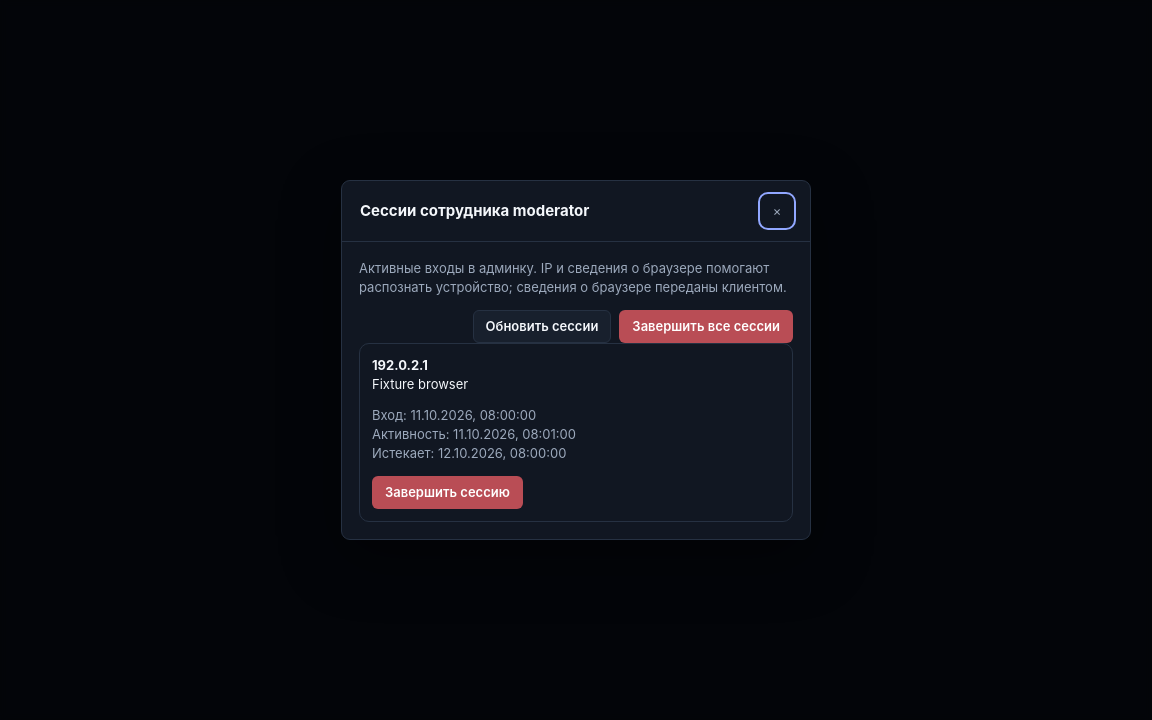
Test: requires a reason, keeps failed revocations reviewable and refreshes after success
Expected: the text "192.0.2.1" is shown, [372,357,428,373]
Click the button "Завершить сессию". click: point(447, 492)
box: [372,476,523,509]
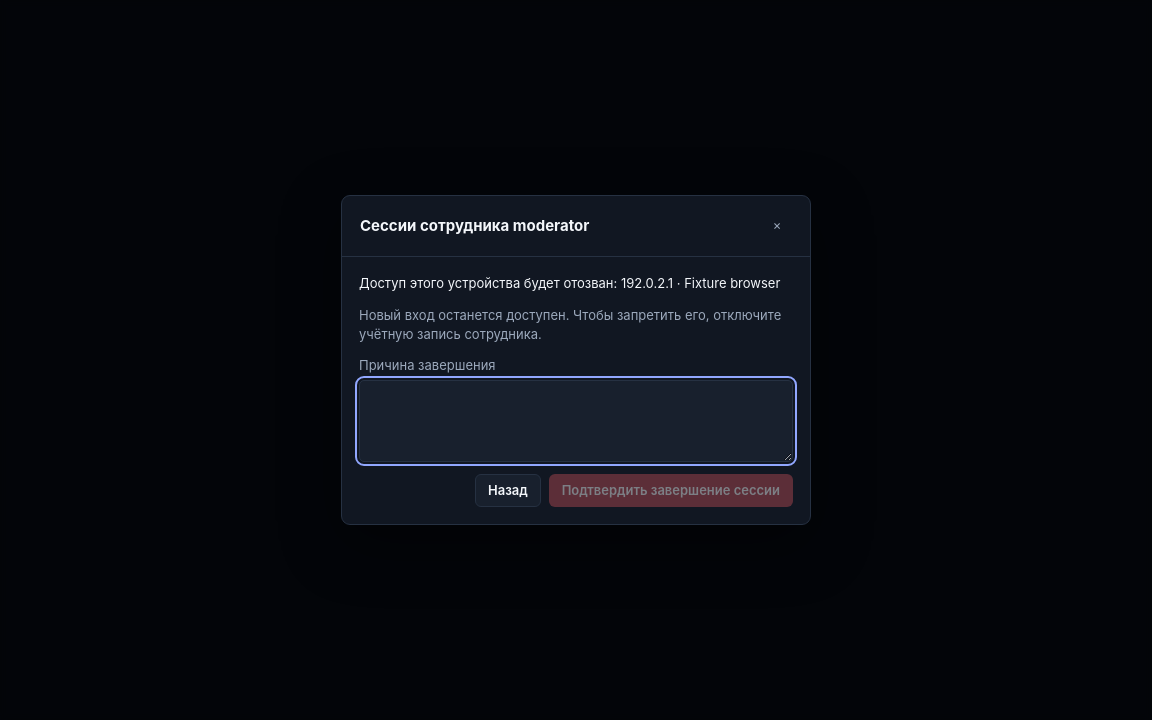
Expected: the button "Подтвердить завершение сессии" is disabled, [549,474,793,507]
Type "Устройство потеряно сотрудником" into the text box labelled "Причина завершения". click: point(576, 421)
box: [359,380,793,462]
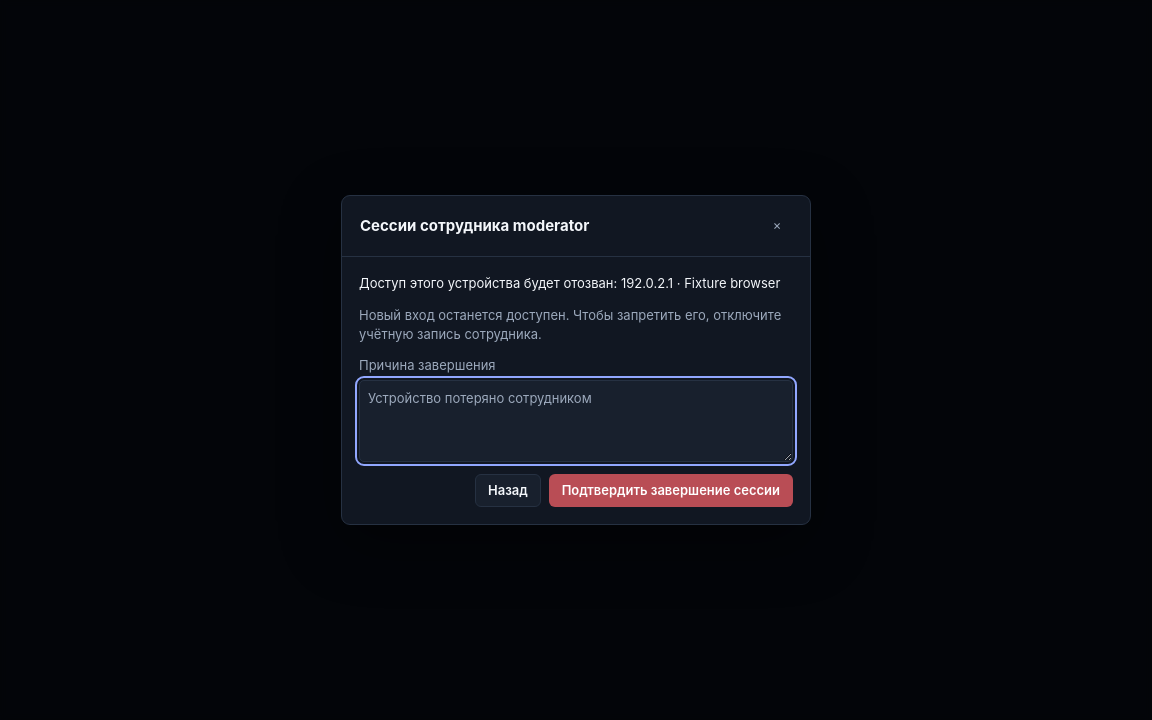
Click the button "Подтвердить завершение сессии". click: point(671, 491)
box: [549,474,793,507]
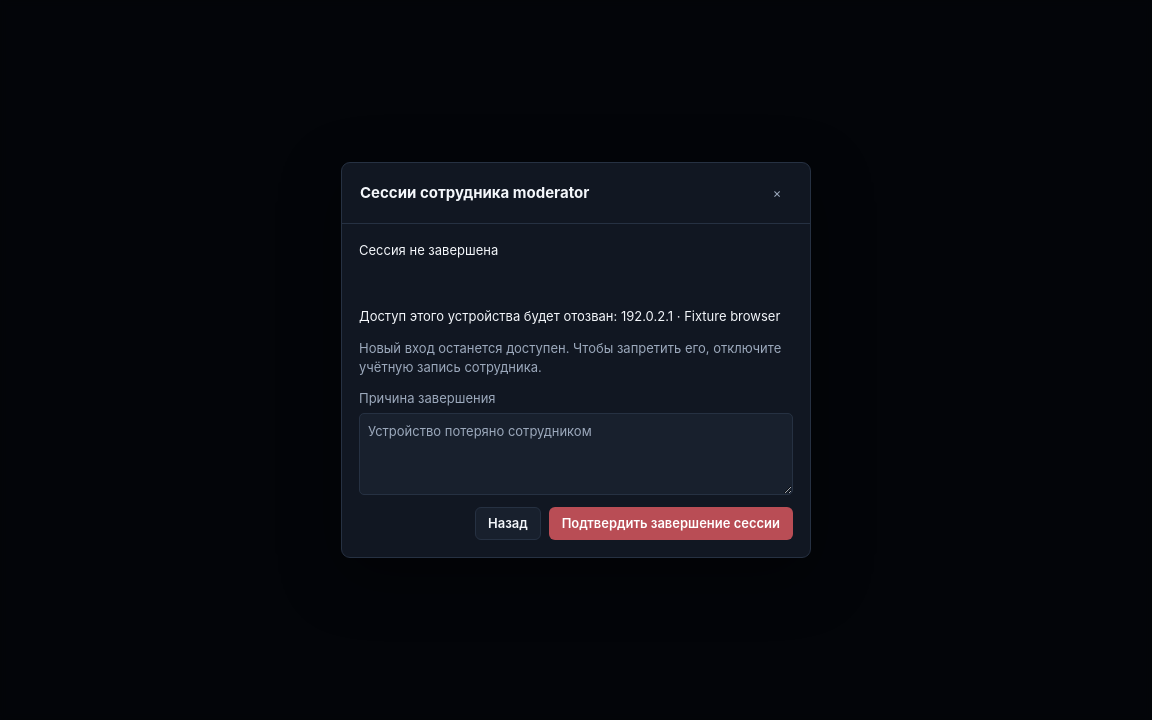
Expected: the message "Сессия не завершена" is shown, [359,242,498,258]
Click the button "Подтвердить завершение сессии". click: point(671, 524)
box: [549,507,793,540]
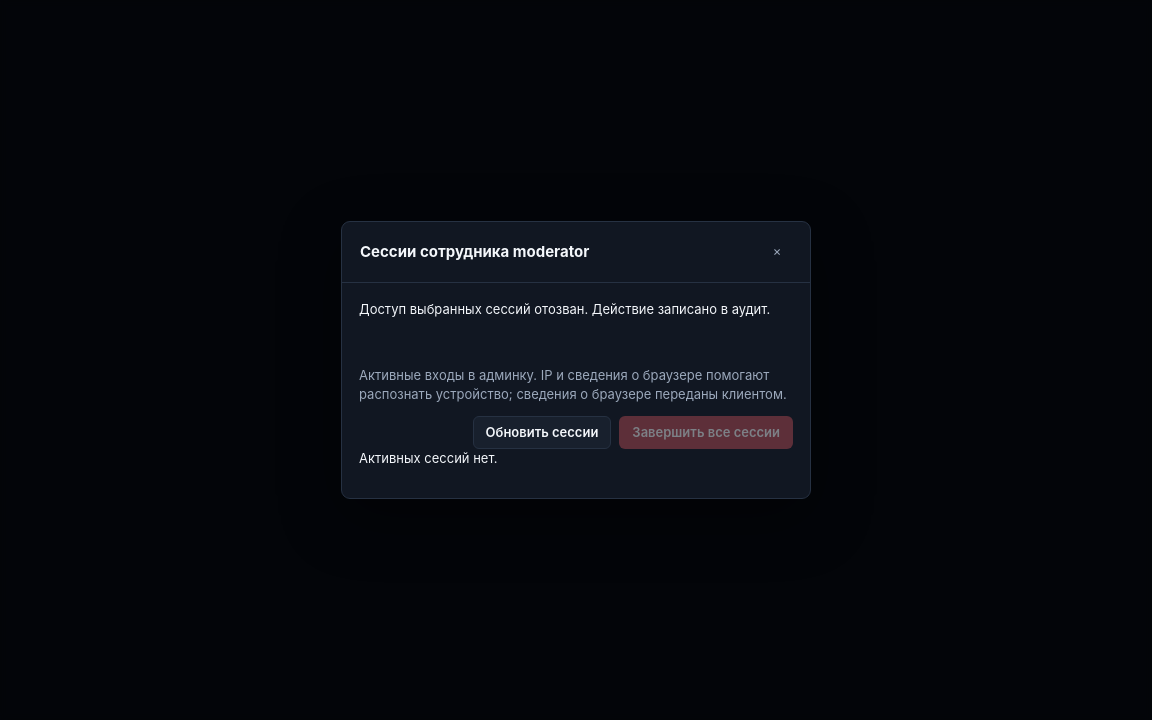
Expected: the text "Активных сессий нет." is shown, [359,450,497,466]
